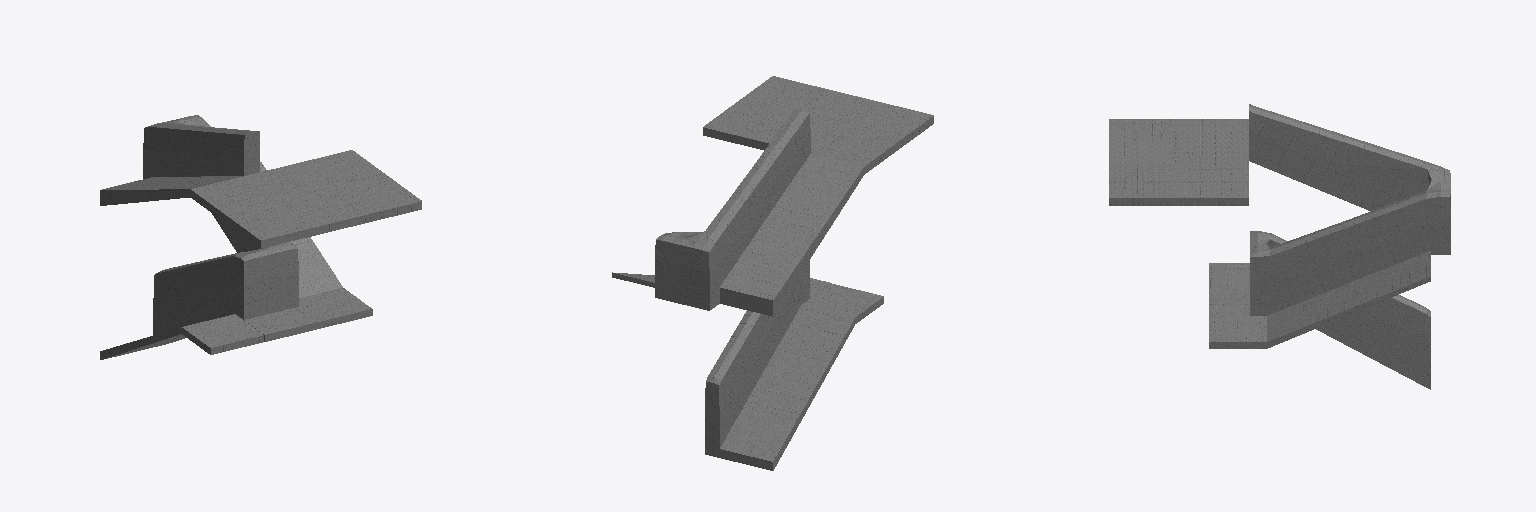
The picture shows the model from 3 angles: view 1: azimuth 30°, elevation 25°; view 2: azimuth 150°, elevation 25°; view 3: azimuth 270°, elevation 25°; orthographic projection.
Visible parts, largest first — view 1: Cube; view 2: Cube; view 3: Cube.
Boxes of the visible parts, x1,y1,x2,y2 form: Cube: [100, 115, 421, 359]; Cube: [612, 76, 933, 470]; Cube: [1109, 104, 1450, 389].
Size of the model in its own units: 4.49 by 7.45 by 8.24.
Materials: 1 (1 with a texture image).